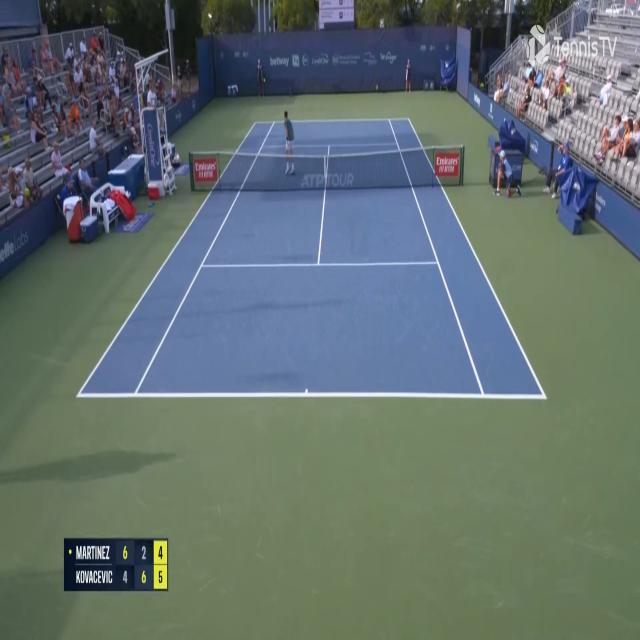tennis-player: (280, 106, 296, 174)
